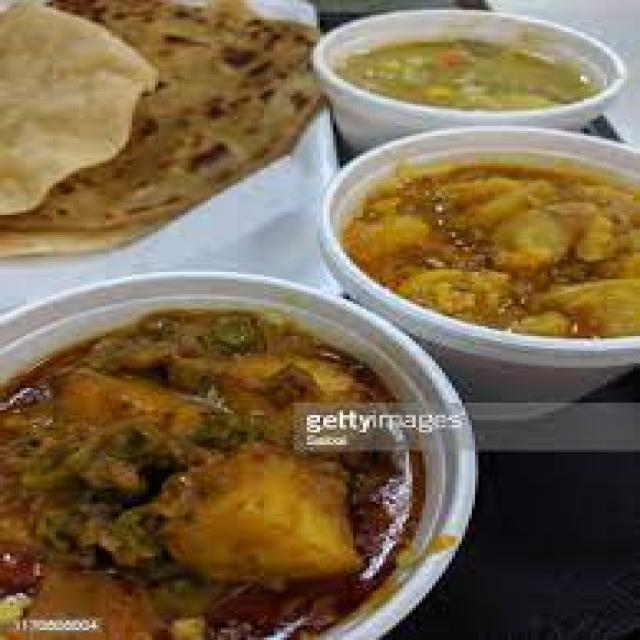dal: (326, 17, 602, 114)
papad: (2, 10, 145, 183)
rice: (344, 145, 621, 326)
roti: (60, 6, 315, 195), (18, 0, 285, 64)
sweet: (330, 11, 600, 121)
